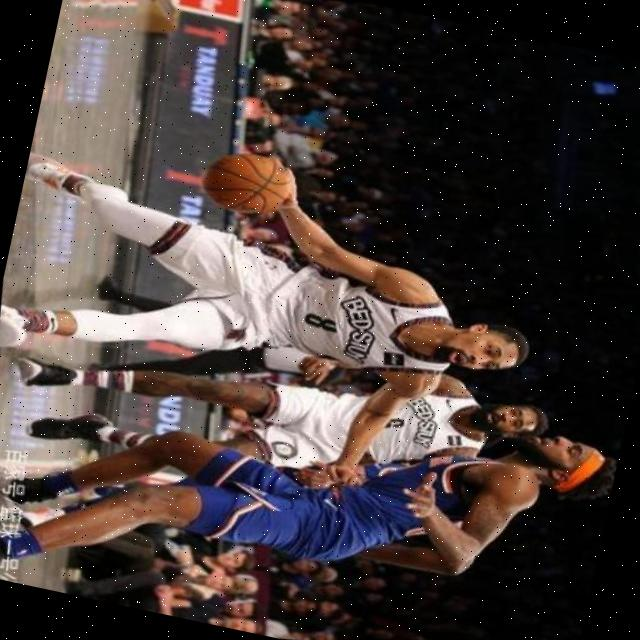ball: (193, 140, 299, 223)
